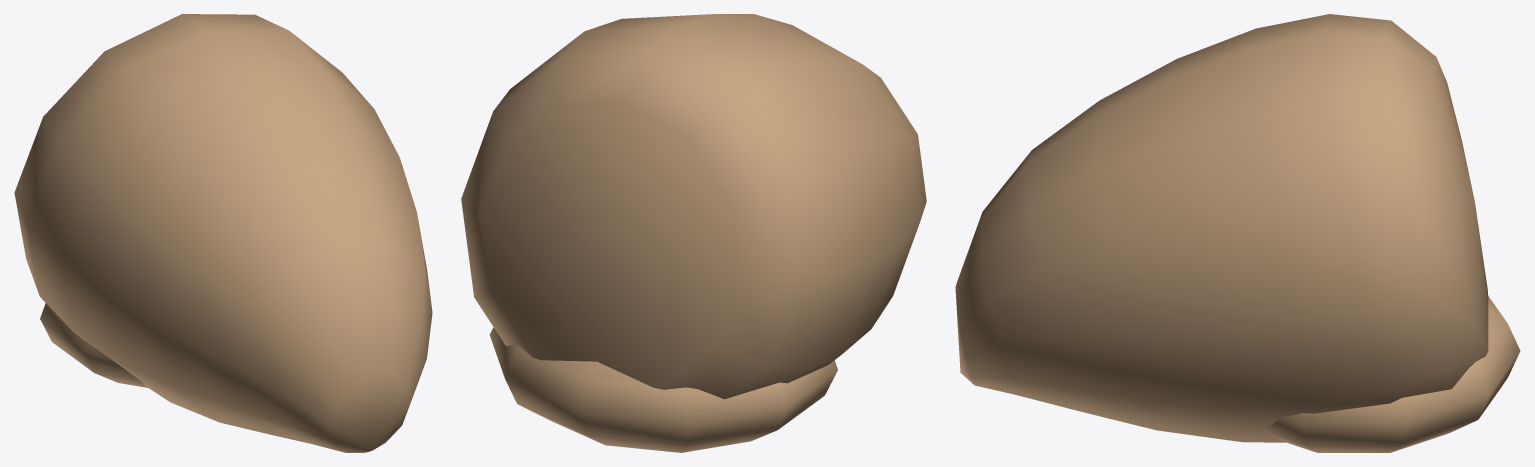
File: muzzle-beak-hooked.glb
3 views of the same model, side by side, from view 1: azimuth 30°, elevation 25°; view 2: azimuth 150°, elevation 25°; view 3: azimuth 270°, elevation 25° (orthographic). The views are drawn at different scales.
Parts seen in each view (by area): view 1: muzzle-beak-hooked; view 2: muzzle-beak-hooked; view 3: muzzle-beak-hooked.
Part boxes in pixels (<box>): muzzle-beak-hooked: <box>14,14,432,452</box>; muzzle-beak-hooked: <box>461,14,926,452</box>; muzzle-beak-hooked: <box>955,14,1520,452</box>.
Size of the model in its own units: 0.1402 by 0.1423 by 0.1865.
